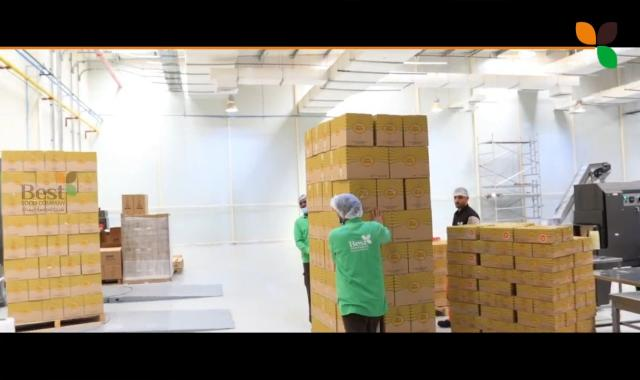hairnet: (331, 194, 366, 222), (452, 186, 469, 200)
